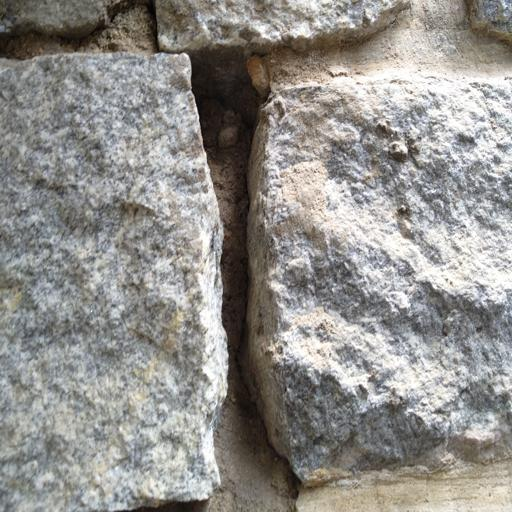spalling: (85, 3, 340, 512)
